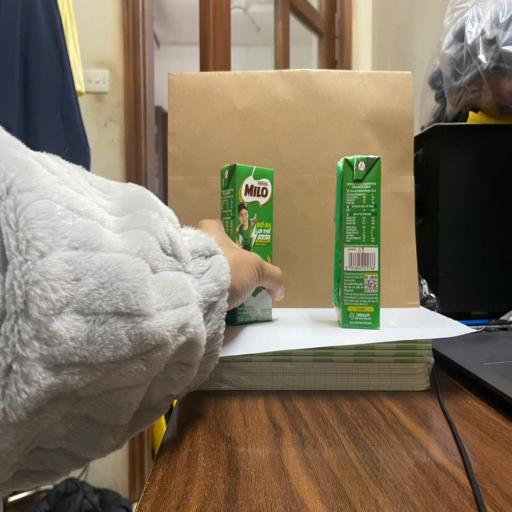milo: (220, 164, 273, 322), (335, 156, 381, 328)
